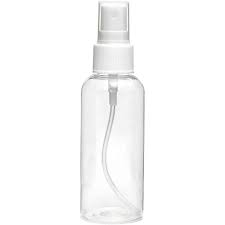available: (74, 1, 149, 225)
